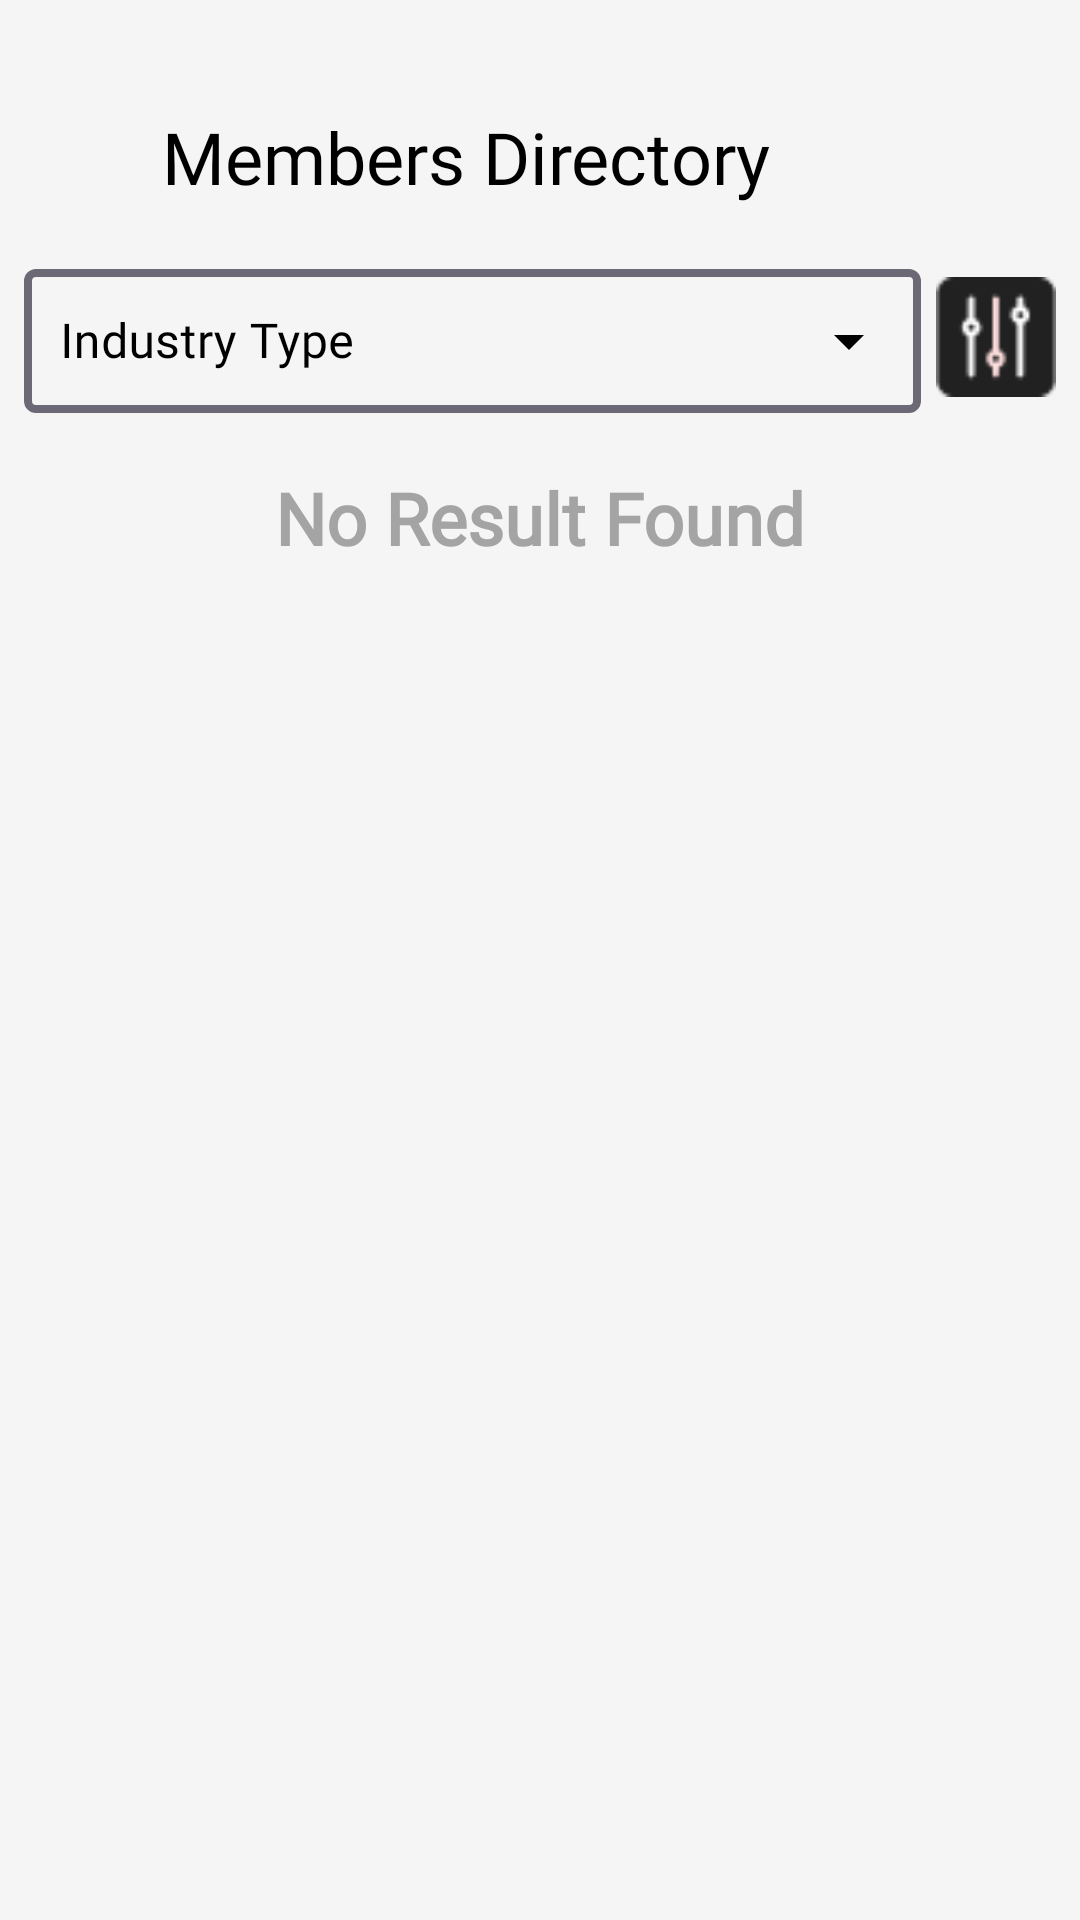

Where to tap for icons on this 1080px×1920px app screen, as [x,y]:
filter: [996,337]
